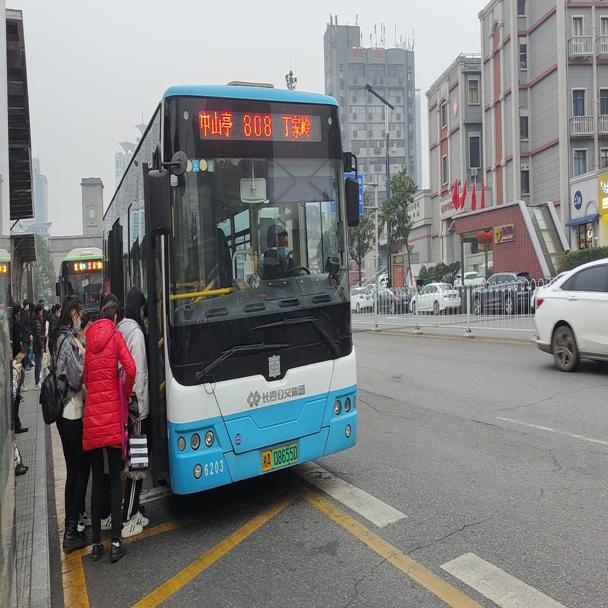bus: (96, 76, 355, 495), (54, 247, 104, 316)
screen: (240, 108, 275, 139), (86, 256, 94, 271)
